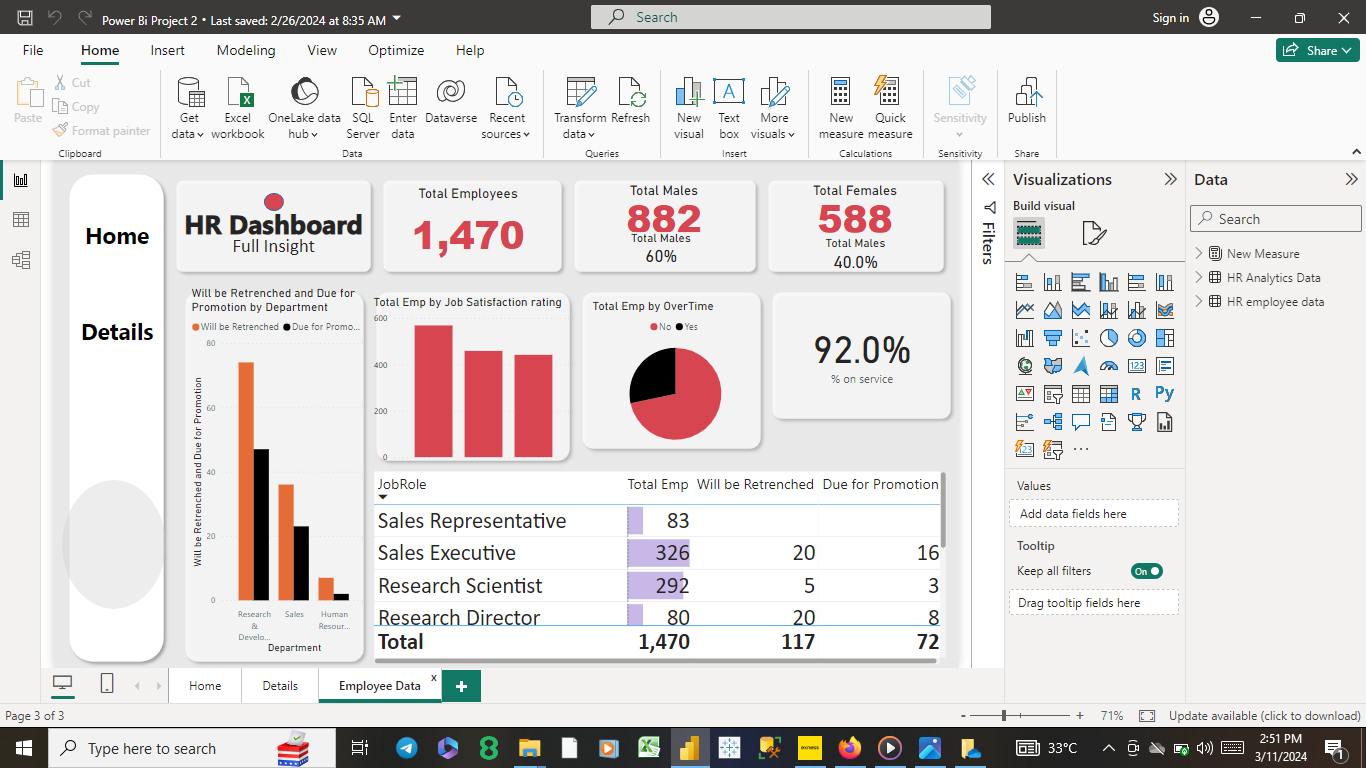

This screenshot's page, from the dashboard's own definition file:
{"tool":"powerbi","page":{"name":"Employee Data","canvas":[1280,720],"ordinal":2},"visuals":[{"type":"shape","box":[12.8,11.3,151.7,708.7],"z":0},{"type":"shape","box":[1003.5,19.8,266.5,147.4],"z":1000},{"type":"shape","box":[728.5,19.8,275,147.4],"z":2000},{"type":"shape","box":[457.8,19.8,270.7,147.4],"z":3000},{"type":"shape","box":[164.4,19.8,293.4,147.4],"z":4000},{"type":"textbox","box":[120.5,59.5,381.3,66.6],"z":5000},{"type":"textbox","box":[120.5,100.6,381.3,59.5],"z":6000},{"type":"shape","box":[297.6,46.8,28.3,25.5],"z":7000},{"type":"card","title":"Total Employees","fields":{"Values":["New Measure.Total Emp"]},"box":[448.1,35.8,277.8,114.5],"z":8000},{"type":"card","title":"Total Males","fields":{"Values":["New Measure.Male"]},"box":[738.8,31.5,252,75.9],"z":9000},{"type":"card","title":"Total Males","fields":{"Values":["New Measure.% Male"]},"box":[739.8,100.6,240.9,49.6],"z":10000},{"type":"card","title":"Total Females","fields":{"Values":["New Measure.Female"]},"box":[1009.1,31.2,252.3,76.5],"z":11000},{"type":"card","title":"Total Males","fields":{"Values":["New Measure.% Female"]},"box":[1010.6,107.7,250.9,52.4],"z":12000},{"type":"shape","box":[177.2,178.6,270.7,541.4],"z":13000},{"type":"clusteredColumnChart","fields":{"Y":["New Measure.Will be Retrenched","New Measure.Due for Promotion"],"Category":["HR Analytics Data.Department"]},"box":[189.9,178.6,258,525.8],"z":14000},{"type":"shape","box":[447.9,178.6,292,256.5],"z":15000},{"type":"shape","box":[739.8,178.6,270.7,239.5],"z":16000},{"type":"shape","box":[1009.1,178.6,270.7,197],"z":17000},{"type":"columnChart","fields":{"Category":["HR Analytics Data.Job Satisfaction rating"],"Y":["New Measure.Total Emp"]},"box":[447.9,191.3,294.8,243.8],"z":18000},{"type":"pieChart","fields":{"Category":["HR Analytics Data.OverTime"],"Y":["New Measure.Total Emp"]},"box":[758.3,197,245.2,221.1],"z":19000},{"type":"tableEx","fields":{"Values":["HR Analytics Data.JobRole","New Measure.Total Emp","New Measure.Will be Retrenched","New Measure.Due for Promotion"]},"box":[447.9,436.5,822,283.5],"z":20000},{"type":"card","fields":{"Values":["New Measure.% on service"]},"box":[1010.6,178.6,269.3,187.1],"z":21000},{"type":"actionButton","box":[22.2,211.9,133.3,59.8],"z":22000},{"type":"actionButton","box":[22.2,76.9,133.3,59.8],"z":23000},{"type":"shape","box":[12,452.9,147,182.9],"z":24000}]}

Visuals, with their boxes on the page's 1280x720 design canvas (x1, y1, x2, y2). These are canvas units, not pixel positions in the 1366x768 screenshot, which may show the page scaled, cropped or inside an application window:
shape: [x1=13, y1=11, x2=164, y2=720]
shape: [x1=1004, y1=20, x2=1270, y2=167]
shape: [x1=728, y1=20, x2=1004, y2=167]
shape: [x1=458, y1=20, x2=728, y2=167]
shape: [x1=164, y1=20, x2=458, y2=167]
textbox: [x1=120, y1=60, x2=502, y2=126]
textbox: [x1=120, y1=101, x2=502, y2=160]
shape: [x1=298, y1=47, x2=326, y2=72]
"Total Employees" card: [x1=448, y1=36, x2=726, y2=150]
"Total Males" card: [x1=739, y1=32, x2=991, y2=107]
"Total Males" card: [x1=740, y1=101, x2=981, y2=150]
"Total Females" card: [x1=1009, y1=31, x2=1261, y2=108]
"Total Males" card: [x1=1011, y1=108, x2=1262, y2=160]
shape: [x1=177, y1=179, x2=448, y2=720]
clusteredColumnChart - New Measure.Will be Retrenched x New Measure.Due for Promotion: [x1=190, y1=179, x2=448, y2=704]
shape: [x1=448, y1=179, x2=740, y2=435]
shape: [x1=740, y1=179, x2=1010, y2=418]
shape: [x1=1009, y1=179, x2=1280, y2=376]
columnChart - HR Analytics Data.Job Satisfaction rating x New Measure.Total Emp: [x1=448, y1=191, x2=743, y2=435]
pieChart - HR Analytics Data.OverTime x New Measure.Total Emp: [x1=758, y1=197, x2=1004, y2=418]
tableEx - HR Analytics Data.JobRole x New Measure.Total Emp: [x1=448, y1=436, x2=1270, y2=720]
card - New Measure.% on service: [x1=1011, y1=179, x2=1280, y2=366]
actionButton: [x1=22, y1=212, x2=156, y2=272]
actionButton: [x1=22, y1=77, x2=156, y2=137]
shape: [x1=12, y1=453, x2=159, y2=636]
